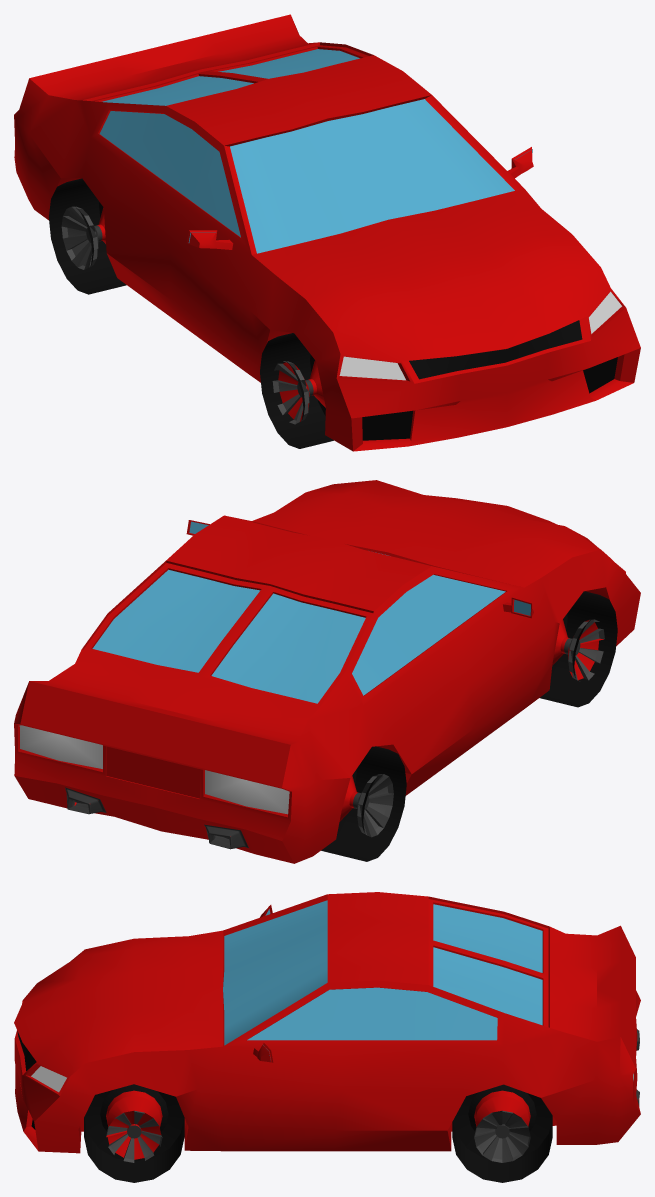
The model's file is lowpoly_car.obj.
3 views of the same model, one above another, from view 1: azimuth 30°, elevation 25°; view 2: azimuth 150°, elevation 25°; view 3: azimuth 270°, elevation 25° (orthographic). The views are drawn at different scales.
Parts seen in each view (by area): view 1: Cube; view 2: Cube; view 3: Cube.
Boxes of the visible parts, box(x1,y1,x2,y2) form: Cube: box(14, 14, 640, 451); Cube: box(14, 480, 640, 863); Cube: box(14, 892, 640, 1182).
Bounding box in the file's own units: 2.68 × 1.57 × 4.84.
